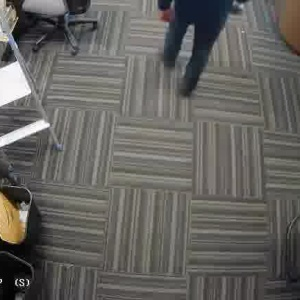person: (169, 0, 229, 95)
